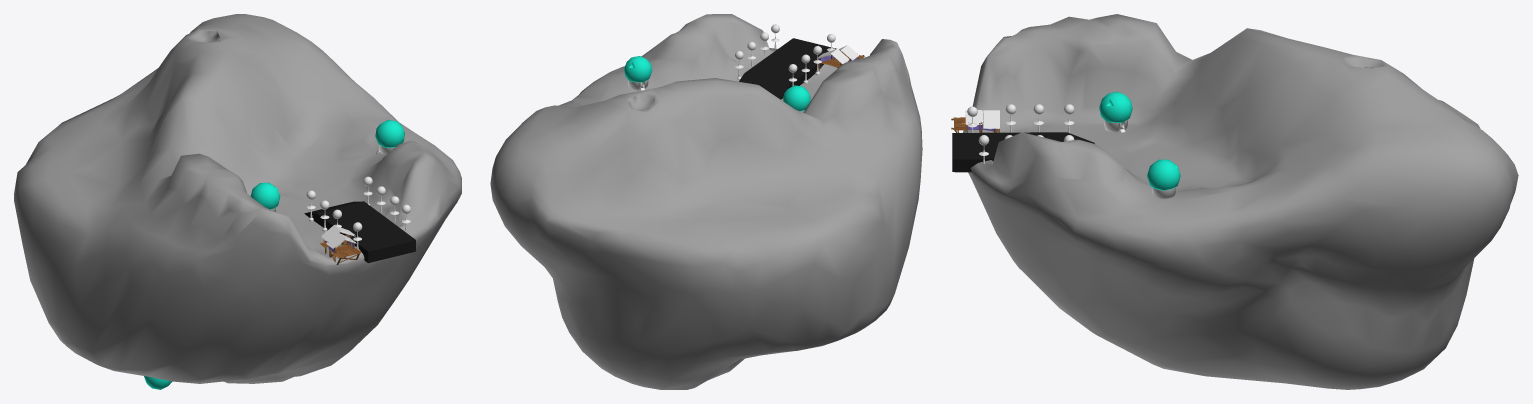
Rendered from gardenerscrunch.fbx.
The picture shows the model from 3 angles, left to right: view 1: azimuth 30°, elevation 25°; view 2: azimuth 150°, elevation 25°; view 3: azimuth 270°, elevation 25°; orthographic projection. The views are drawn at different scales.
Visible parts, largest first — view 1: Cube.001, Cube.032, Icosphere, Icosphere.001; view 2: Cube.001, Cube.032, Icosphere, Icosphere.001; view 3: Cube.001, Cube.032, Icosphere, Icosphere.001.
Boxes of the visible parts, bbox=[...] form: Cube.001: bbox=[14, 14, 461, 383]; Cube.032: bbox=[304, 201, 415, 262]; Icosphere: bbox=[375, 120, 404, 147]; Icosphere.001: bbox=[250, 182, 280, 209]; Cube.001: bbox=[490, 14, 922, 389]; Cube.032: bbox=[739, 38, 836, 99]; Icosphere: bbox=[624, 56, 652, 82]; Icosphere.001: bbox=[783, 85, 810, 111]; Cube.001: bbox=[963, 14, 1518, 389]; Cube.032: bbox=[952, 132, 1094, 172]; Icosphere: bbox=[1147, 159, 1180, 190]; Icosphere.001: bbox=[1099, 91, 1132, 122].
Bounding box in the file's own units: 1404 × 1151 × 1759.
